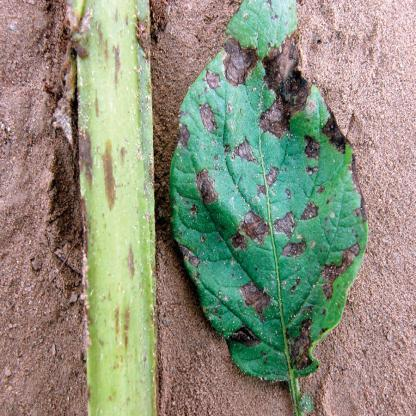potato leaf early blight: (171, 1, 373, 391)
